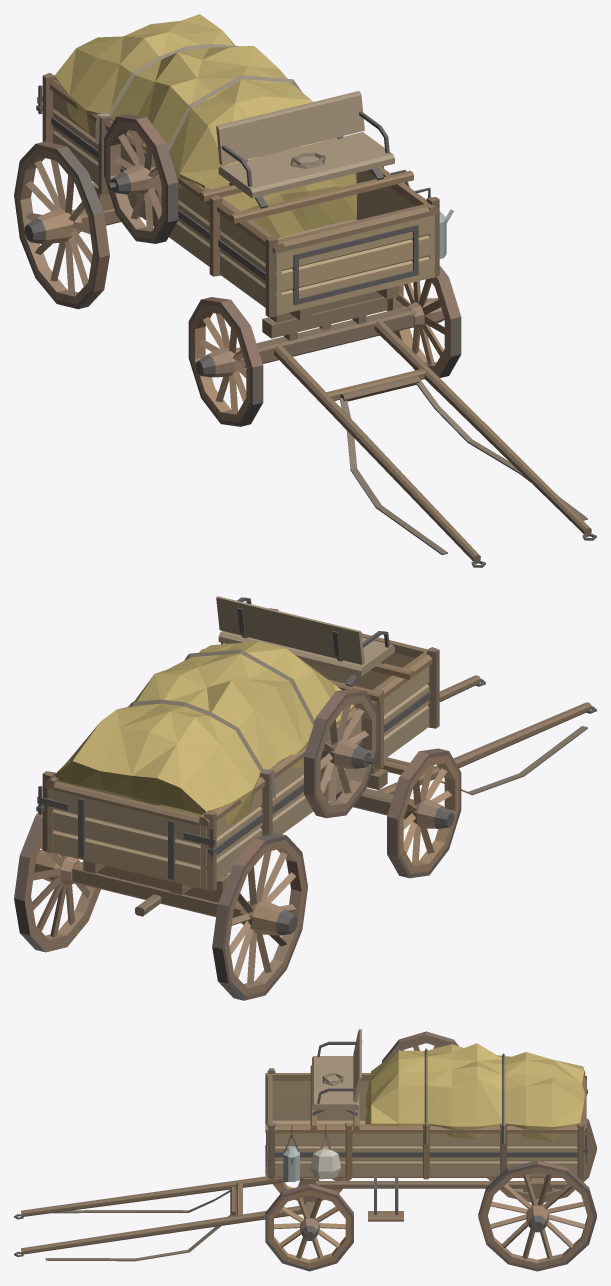
Rendered from stall_1.glb.
The picture shows the model from 3 angles, top to bottom: view 1: azimuth 30°, elevation 25°; view 2: azimuth 150°, elevation 25°; view 3: azimuth 270°, elevation 25°; orthographic projection. The views are drawn at different scales.
Visible parts, largest first — view 1: stall_1; view 2: stall_1; view 3: stall_1.
Boxes of the visible parts, x1,y1,x2,y2 form: stall_1: [14, 14, 596, 567]; stall_1: [14, 596, 596, 1000]; stall_1: [14, 1029, 596, 1271].
Bounding box in the file's own units: 2.2 × 2.1 × 6.05.
